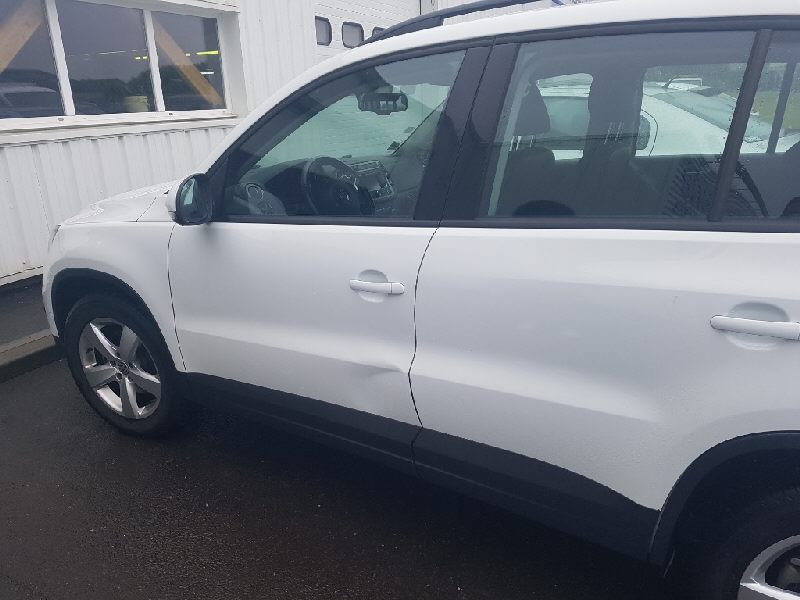front door: (150, 29, 502, 462)
